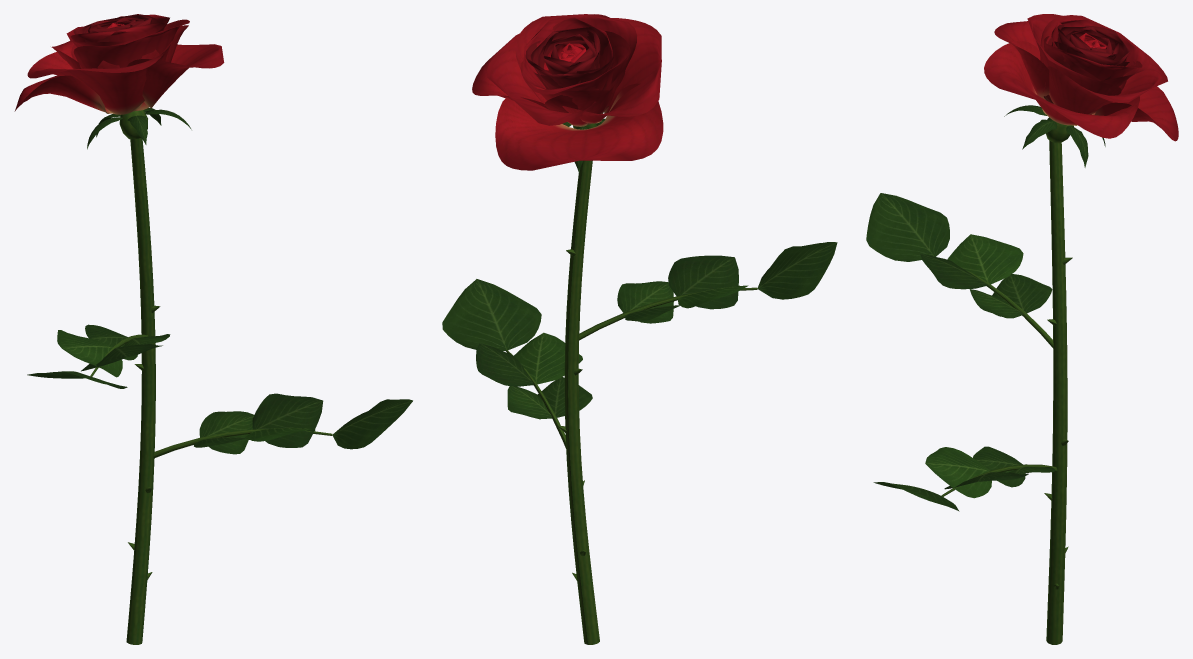
The model's file is fl-rose.glb.
3 views of the same model, side by side, from view 1: azimuth 30°, elevation 25°; view 2: azimuth 150°, elevation 25°; view 3: azimuth 270°, elevation 25° (orthographic).
Visible parts, largest first — view 1: rose_rose_petal, rose_rose_leaf, rose_rose_stem; view 2: rose_rose_petal, rose_rose_leaf, rose_rose_stem; view 3: rose_rose_petal, rose_rose_leaf, rose_rose_stem.
Part boxes in pixels (box(x1,y1,x2,y2)): rose_rose_petal: box(14, 14, 224, 114); rose_rose_leaf: box(27, 108, 412, 454); rose_rose_stem: box(90, 110, 332, 644); rose_rose_petal: box(472, 14, 663, 170); rose_rose_leaf: box(442, 118, 837, 419); rose_rose_stem: box(506, 123, 757, 644); rose_rose_petal: box(984, 14, 1178, 141); rose_rose_leaf: box(866, 105, 1105, 511); rose_rose_stem: box(941, 117, 1073, 644).
Size of the model in its own units: 0.2171 by 0.349 by 0.1609.
3 materials, 3 textured.
